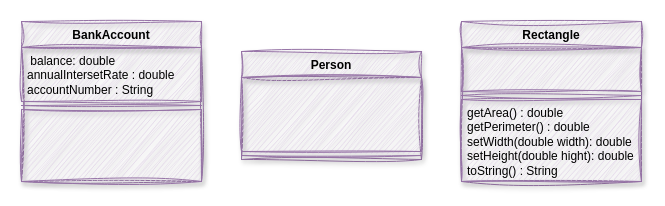
The diagram is 665 pixels wide and 206 high, and some of its shapes have lost their labels. Each missing label, with the centre of its shape:
"+ height : double + width : double" belongs at (x=552, y=70).
"age : int id : int name : String gender: String" belongs at (x=332, y=115).
"setWidth(double amount):void setHeight(double amount): void toString() : String" belongs at (x=112, y=146).
